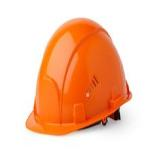Helmet: (24, 17, 133, 136)
